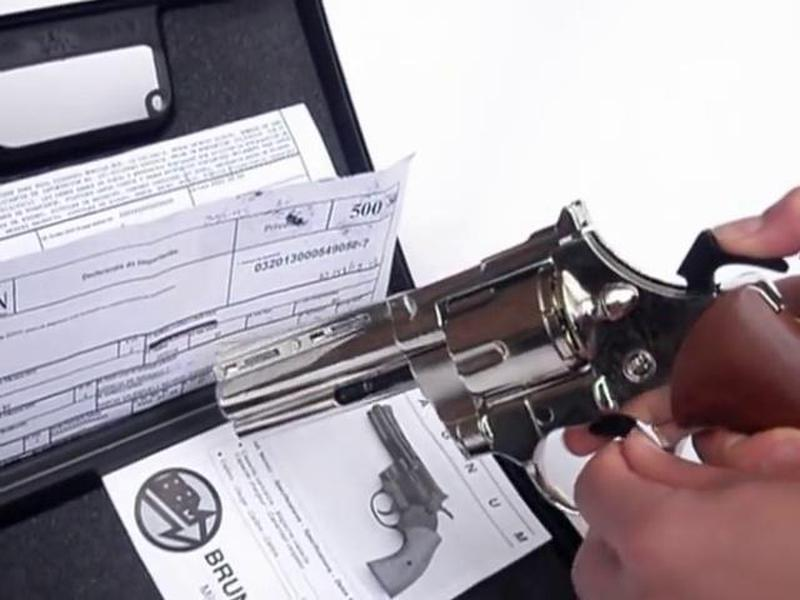Revolver: (201, 194, 757, 526)
